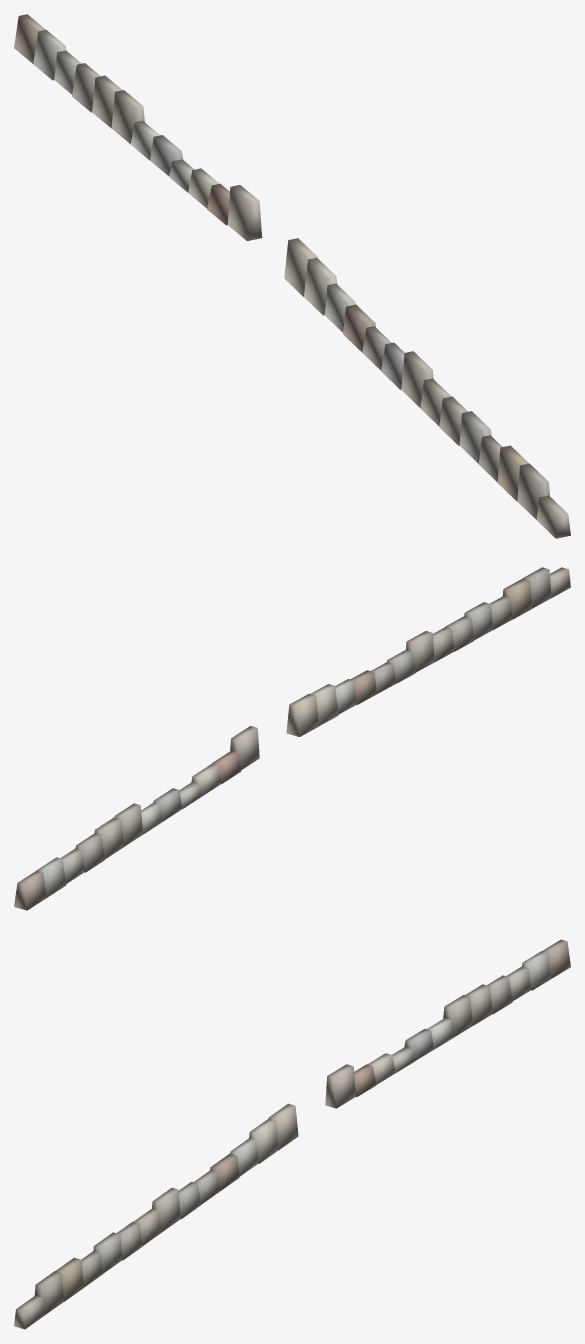
Rendered from farm_21_14_collision.glb.
3 views of the same model, one above another, from view 1: azimuth 30°, elevation 25°; view 2: azimuth 150°, elevation 25°; view 3: azimuth 330°, elevation 25° (orthographic). The views are drawn at different scales.
Parts seen in each view (by area): view 1: geometry_0; view 2: geometry_0; view 3: geometry_0.
Boxes of the visible parts, left/top/right/bottom form: geometry_0: left=14, top=14, right=570, bottom=538; geometry_0: left=14, top=567, right=570, bottom=910; geometry_0: left=14, top=939, right=570, bottom=1329.
Bounding box in the file's own units: 3.71 × 2.78 × 44.68.
